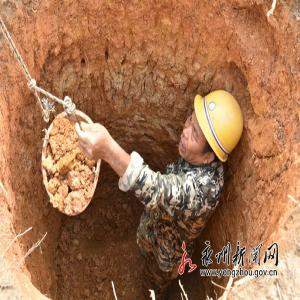yellow: (176, 87, 249, 172)
